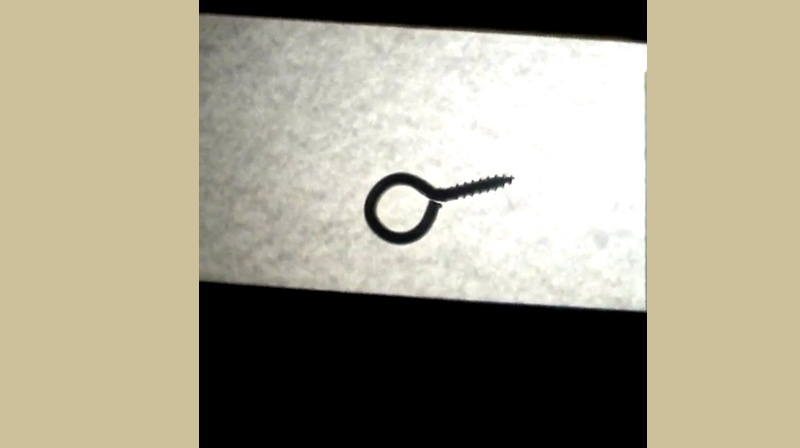O001: (362, 166, 517, 248)
